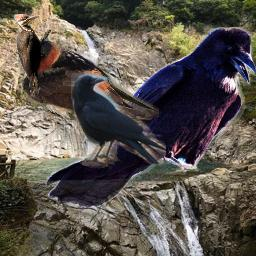Crow: (46, 27, 256, 208), (71, 71, 166, 168)
Swallow: (18, 39, 159, 123)
Woodpecker: (14, 14, 51, 97)
